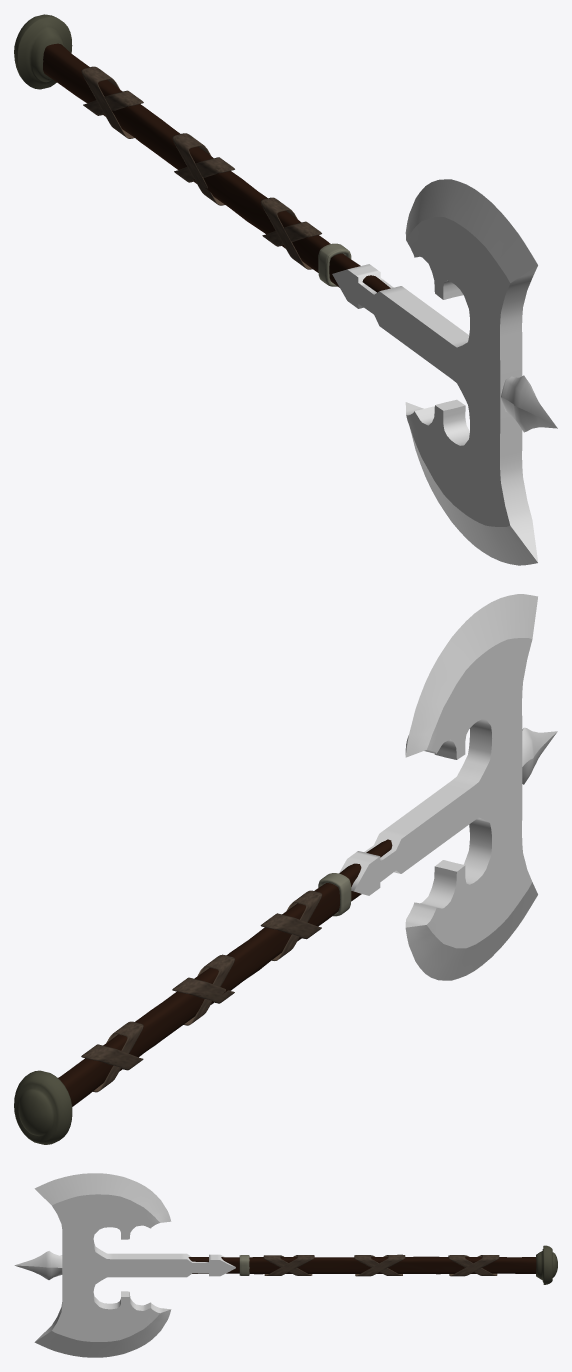
The model's file is axe.fbx.
The picture shows the model from 3 angles, top to bottom: view 1: azimuth 30°, elevation 25°; view 2: azimuth 150°, elevation 25°; view 3: azimuth 270°, elevation 25°; orthographic projection. The views are drawn at different scales.
Parts seen in each view (by area): view 1: Axe; view 2: Axe; view 3: Axe.
Boxes of the visible parts, x1,y1,x2,y2 form: Axe: [14, 14, 557, 565]; Axe: [14, 594, 557, 1144]; Axe: [14, 1173, 557, 1357].
Bounding box in the file's own units: 25.17 × 158 × 422.
